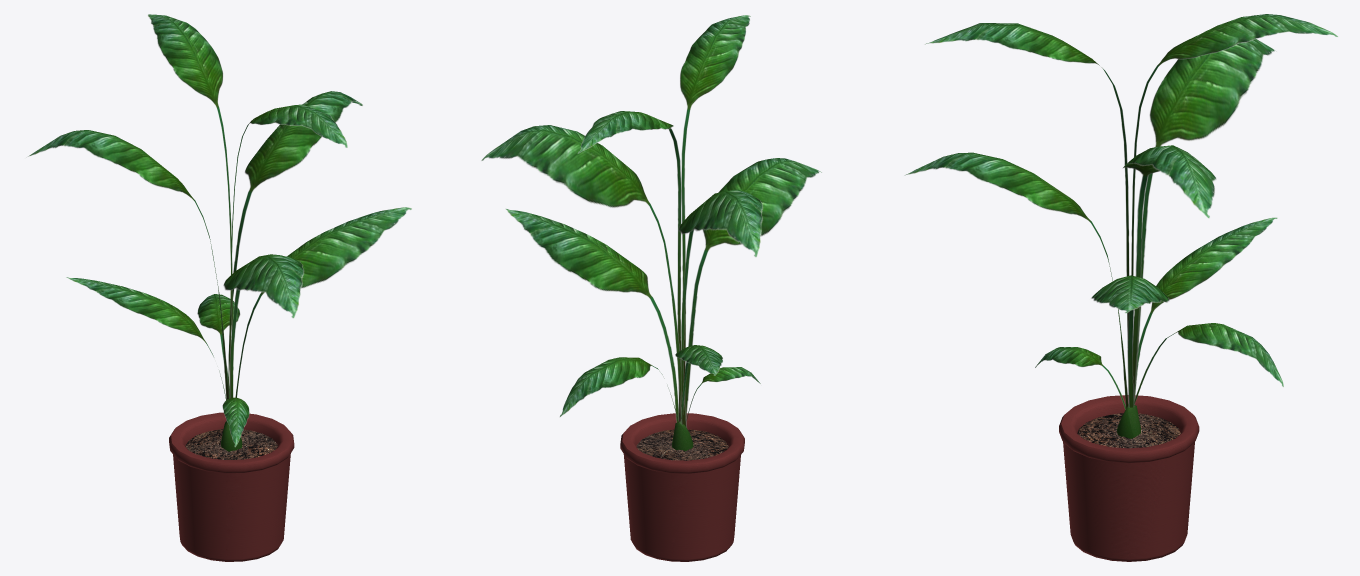
File: plant.glb
3 views of the same model, side by side, from view 1: azimuth 30°, elevation 25°; view 2: azimuth 150°, elevation 25°; view 3: azimuth 270°, elevation 25° (orthographic). The views are drawn at different scales.
Visible parts, largest first — view 1: Potted_Plant_Leaf_0, Potted_Plant_Pot_0, Potted_Plant_Dirt_0; view 2: Potted_Plant_Leaf_0, Potted_Plant_Pot_0, Potted_Plant_Dirt_0; view 3: Potted_Plant_Leaf_0, Potted_Plant_Pot_0, Potted_Plant_Dirt_0, Potted_Plant_Plant_0.
Boxes of the visible parts, x1,y1,x2,y2 form: Potted_Plant_Leaf_0: (28,14,411,446); Potted_Plant_Pot_0: (169,412,294,561); Potted_Plant_Dirt_0: (185,429,277,459); Potted_Plant_Leaf_0: (481,15,821,427); Potted_Plant_Pot_0: (620,413,744,561); Potted_Plant_Dirt_0: (636,429,728,460); Potted_Plant_Leaf_0: (904,14,1338,409); Potted_Plant_Pot_0: (1059,395,1199,561); Potted_Plant_Dirt_0: (1077,413,1180,448); Potted_Plant_Plant_0: (1117,404,1140,438).
Bounding box in the file's own units: 7.89 × 10.01 × 7.89.
4 materials, 4 textured.
